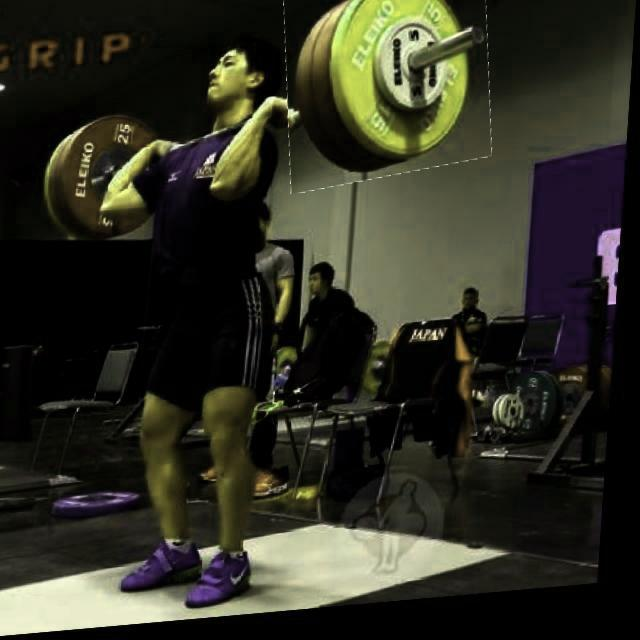barbell: (280, 1, 500, 197)
